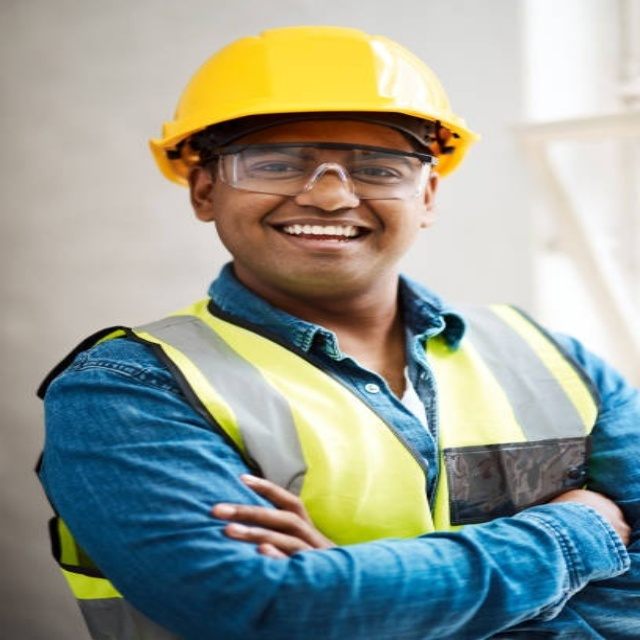Gafas: (204, 145, 436, 202)
Sin_guantes: (212, 468, 348, 559)
Sin_mascara: (257, 212, 389, 278)
